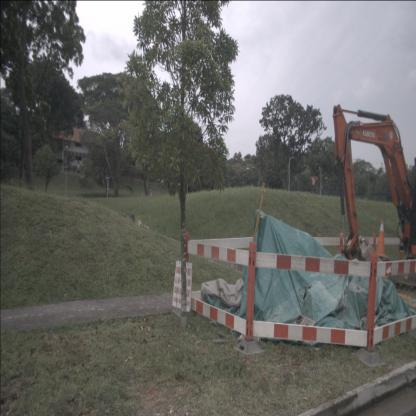cone: (374, 216, 390, 262)
